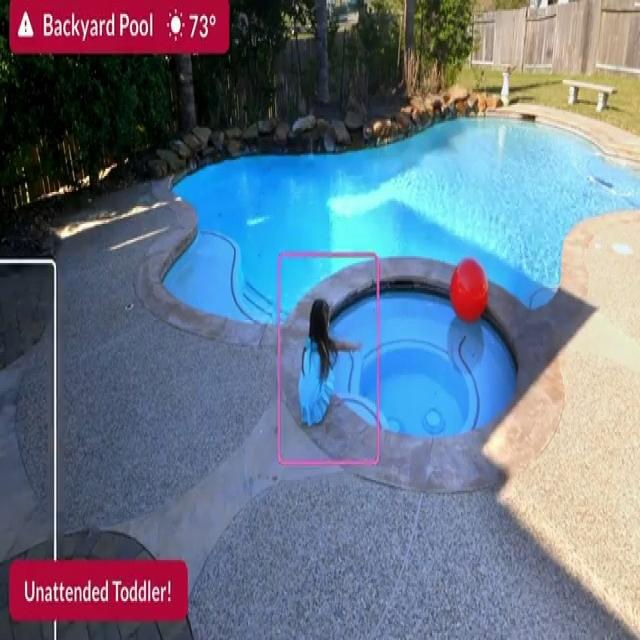child: (298, 296, 362, 430)
